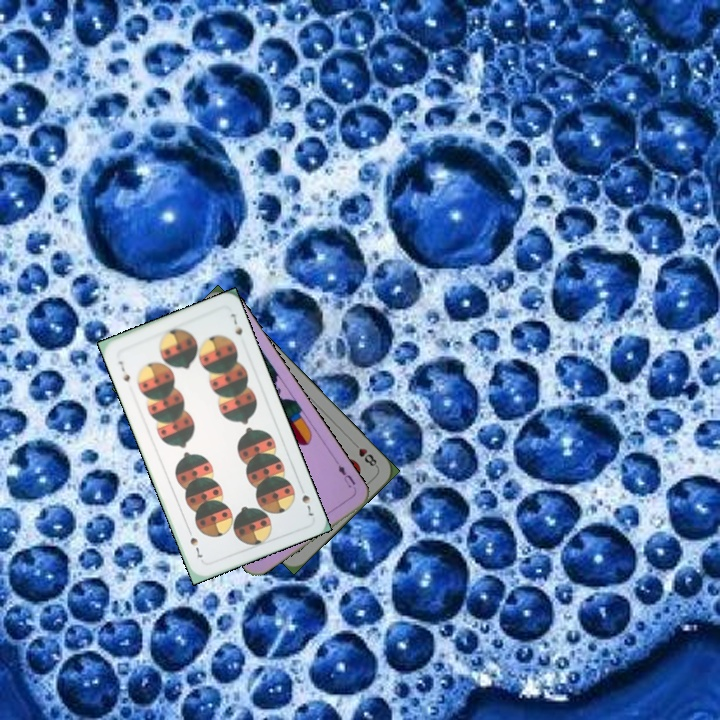EU: (332, 457, 359, 495)
H8: (348, 438, 380, 470)
S7: (298, 490, 317, 519), (114, 357, 133, 384)
